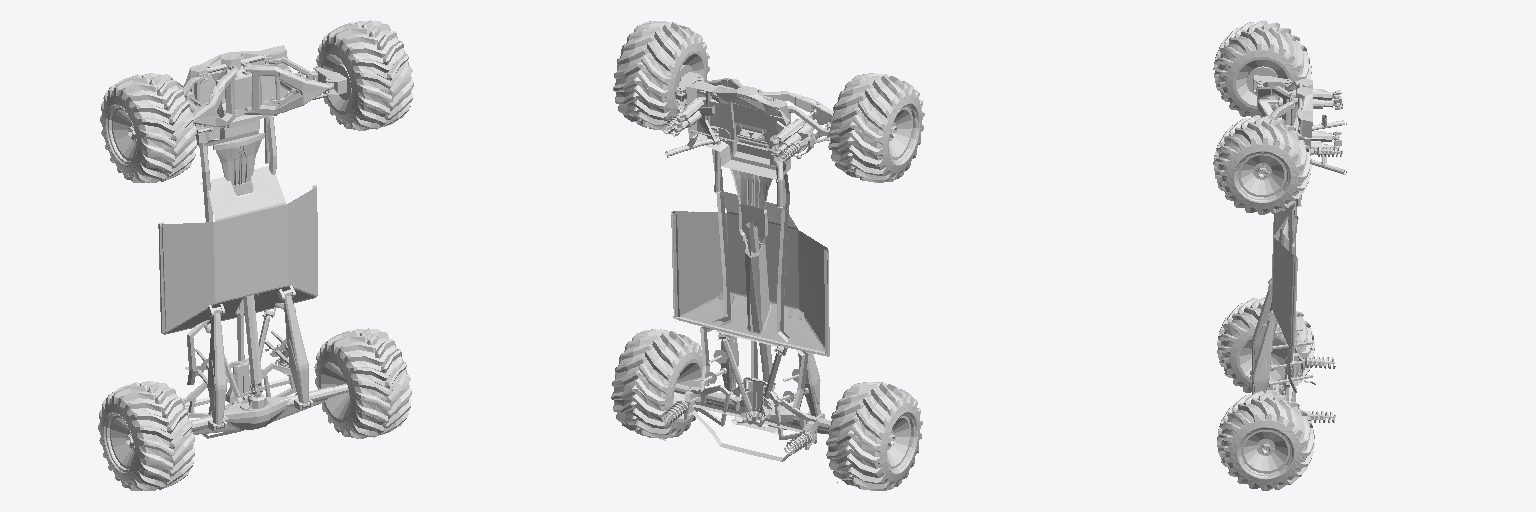
robot.urdf — robot:
<?xml version="1.0"?>

<robot name="robot" xmlns:xacro="http://ros.org/wiki/xacro">
  <link name="base_link">
    <visual name="chassis_visual">
      <origin rpy="0 0 0" xyz="0.033 0.025 -0.04"/>
      <geometry>
        <mesh filename="package://trekking_amr/meshes/Chassi_RC.obj"
              scale="1.0 1.0 1.0"/>
      </geometry>
      <material name="white">
        <color rgba="0.9 0.9 0.9 1.0"/>
      </material>
    </visual>
  </link>
</robot>

--- What the picture shows (computed from the rendered views, not written in the file) ---
The picture shows the robot from 3 angles, left to right: view 1: azimuth 30°, elevation 25°; view 2: azimuth 150°, elevation 25°; view 3: azimuth 270°, elevation 25°; orthographic projection.
Robot: robot — 1 links, 0 joints (none); root link base_link; default pose: every joint at zero.
Links seen in each view (by area): view 1: base_link; view 2: base_link; view 3: base_link.
Boxes of the visible links, x1,y1,x2,y2 form: base_link: (98,20,413,490); base_link: (611,21,924,490); base_link: (1213,21,1346,490).
Bounding box of the posed robot: 10.71 × 5.08 × 15.36 m (x, y, z).
Meshes: 1 distinct files referenced, 1 mesh visuals loaded (1 OBJ).
